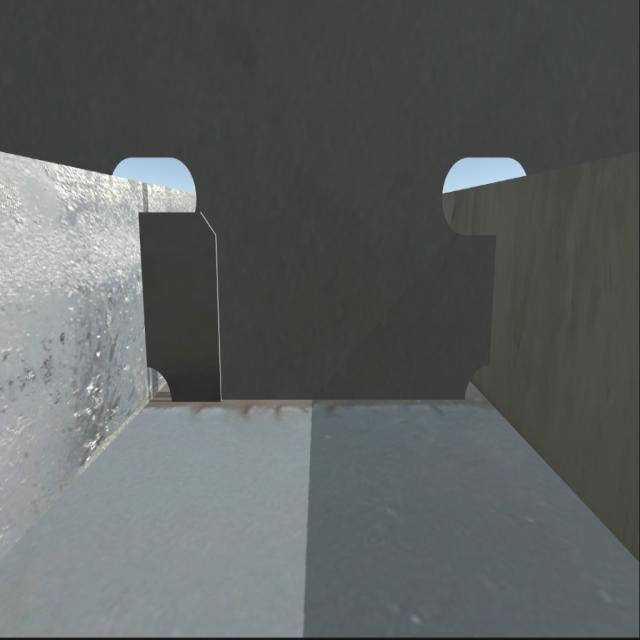fillet_hole: (464, 364, 493, 401), (144, 362, 169, 400)
fillet_yong_jeop_jang: (171, 398, 462, 405)
longi_yong_jeop_jang: (490, 239, 496, 360), (142, 212, 144, 372)
plate_CP03: (143, 216, 217, 404)
